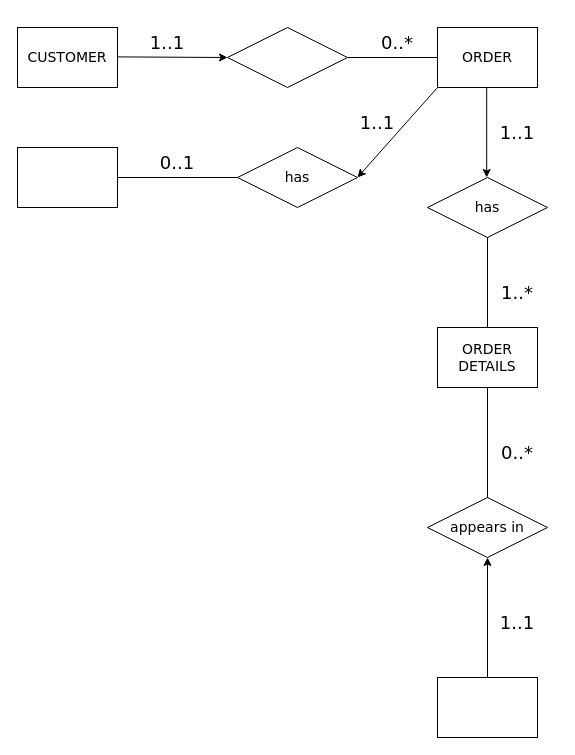
Image size: 575x755. Some labels were removed from this diagram. Here are the shapes that lost their labels. From the top down, the centre of each, then its label:
At point 287,57: "places".
At point 67,177: "RATING".
At point 487,707: "MEAL".
